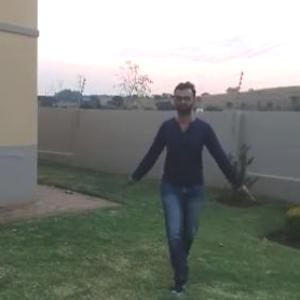land: (115, 70, 264, 299)
